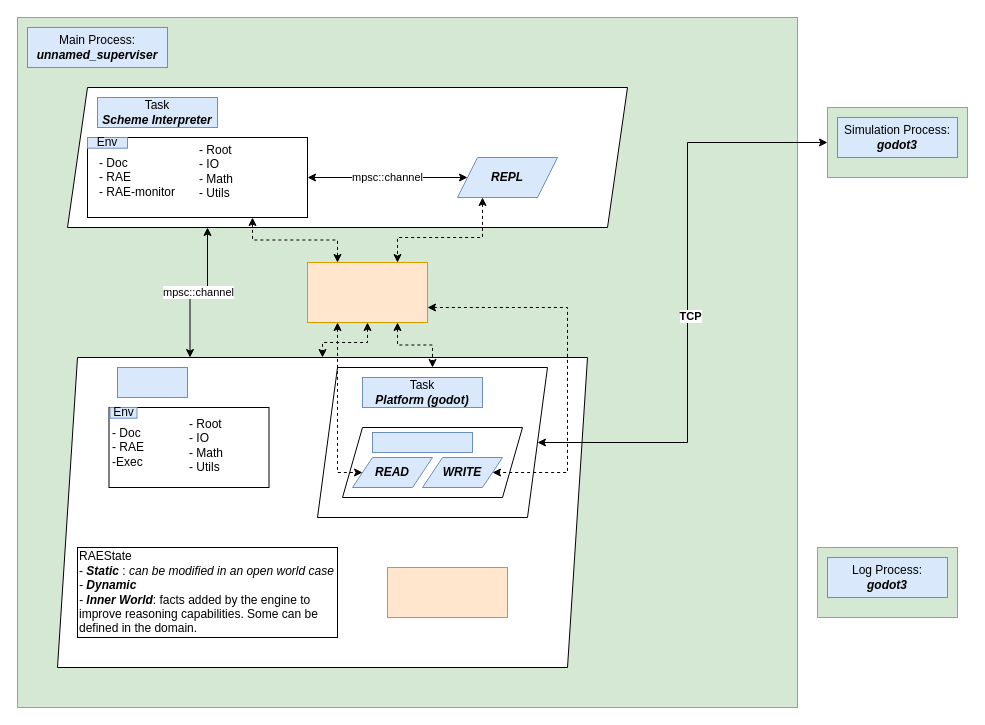
Image size: 985x725. Some labels were removed from this diagram. Each missing label, with the box of its shape:
Action Status: (386, 566, 508, 618)
Task RAE: (116, 366, 188, 398)
TaskHandler: (306, 262, 428, 322)
TCP connection: (372, 432, 472, 452)
